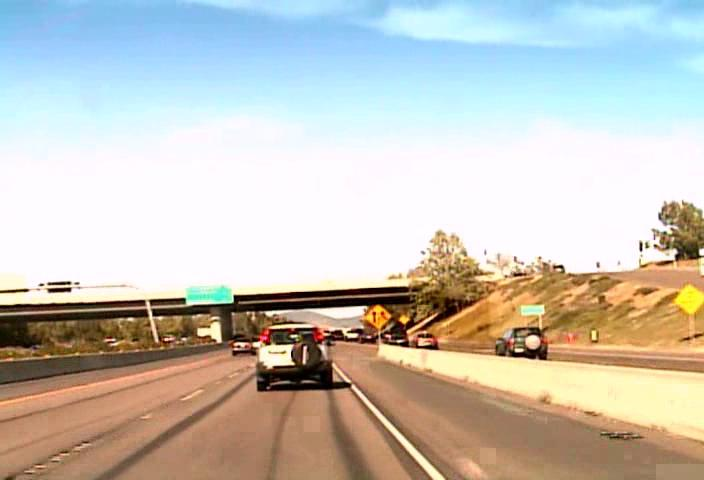addedLane: (363, 303, 392, 328)
